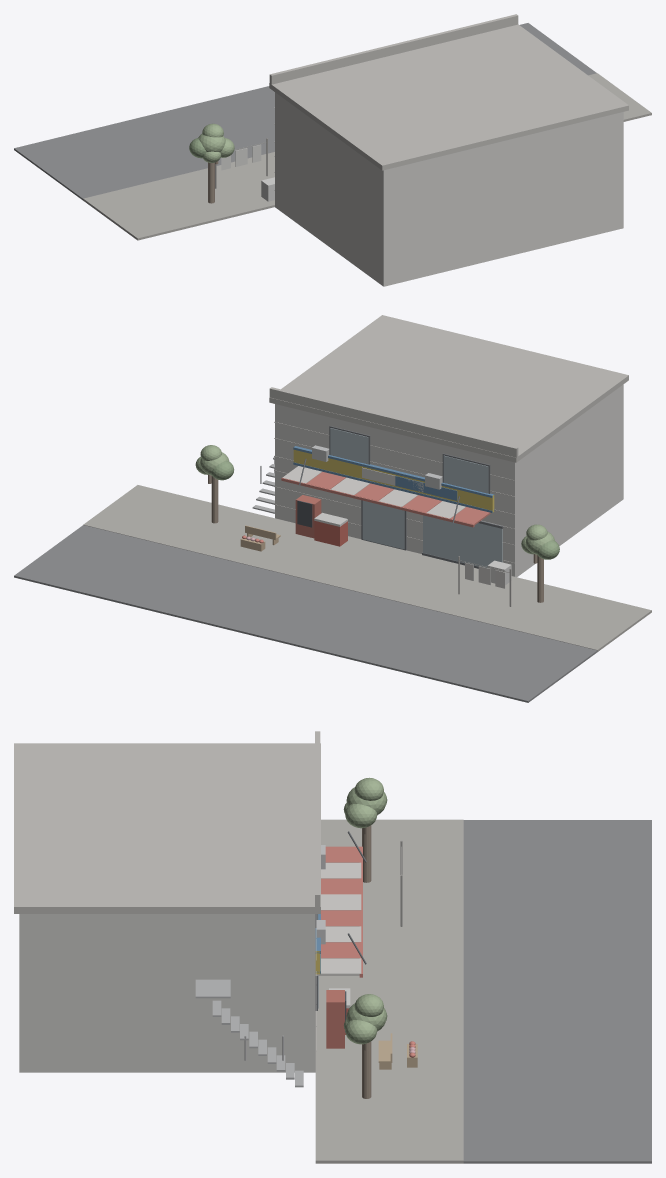
File: store06_v7b.glb
The picture shows the model from 3 angles, top to bottom: view 1: azimuth 30°, elevation 25°; view 2: azimuth 150°, elevation 25°; view 3: azimuth 270°, elevation 25°; orthographic projection. The views are drawn at different scales.
Parts seen in each view (by area): view 1: geometry_0; view 2: geometry_0; view 3: geometry_0.
Boxes of the visible parts, <box> form: geometry_0: <box>14,14,651,286</box>; geometry_0: <box>14,315,651,702</box>; geometry_0: <box>14,731,651,1163</box>.
Size of the model in its own units: 30 by 7.38 by 23.7.
